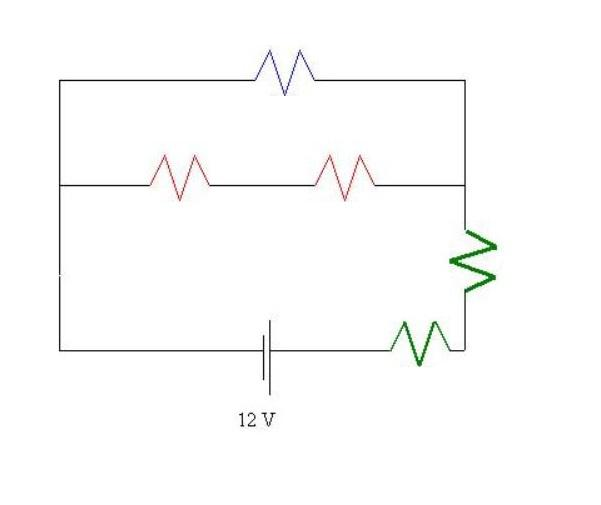resistor: (220, 23, 332, 105), (130, 135, 230, 207), (435, 217, 504, 306), (302, 140, 384, 199)
